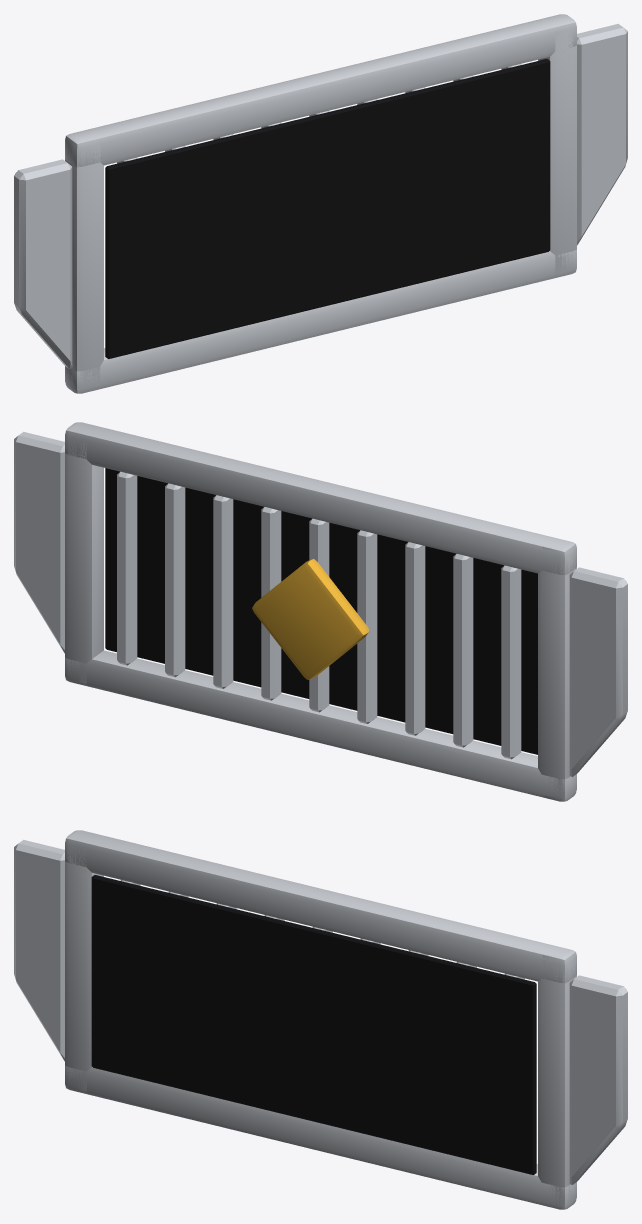
Rendered from grille_frame_chrome.glb.
3 renders of one model, top to bottom at view 1: azimuth 30°, elevation 25°; view 2: azimuth 150°, elevation 25°; view 3: azimuth 330°, elevation 25°, orthographic.
Visible parts, largest first — view 1: plastic_black, chrome; view 2: chrome, plastic_black, paint_gold; view 3: plastic_black, chrome.
Part boxes in pixels (x1,y1,x2,y2): plastic_black: [105, 59, 550, 358]; chrome: [14, 14, 627, 393]; chrome: [14, 422, 627, 801]; plastic_black: [105, 468, 537, 754]; paint_gold: [252, 559, 369, 679]; plastic_black: [91, 875, 536, 1174]; chrome: [14, 830, 627, 1209].
Size of the model in its own units: 2.06 by 0.82 by 0.135.
